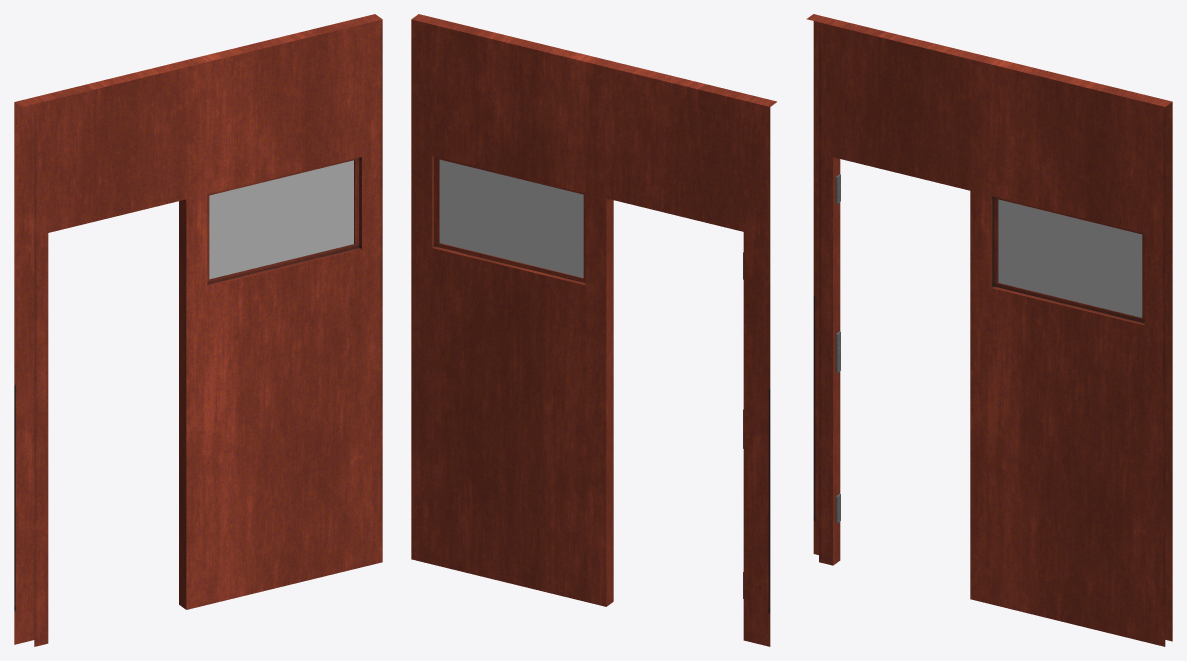
The model's file is SM_Entourage_Bed_Wall.fbx.
The picture shows the model from 3 angles, left to right: view 1: azimuth 30°, elevation 25°; view 2: azimuth 150°, elevation 25°; view 3: azimuth 330°, elevation 25°; orthographic projection.
Visible parts, largest first — view 1: SM_Entourage_Bed_Wall; view 2: SM_Entourage_Bed_Wall; view 3: SM_Entourage_Bed_Wall.
Part boxes in pixels (x1,y1,x2,y2): SM_Entourage_Bed_Wall: (14,14,382,646); SM_Entourage_Bed_Wall: (411,14,776,646); SM_Entourage_Bed_Wall: (806,14,1172,646).
Bounding box in the file's own units: 198 × 7.09 × 285.
Materials: 2 (1 with a texture image).
